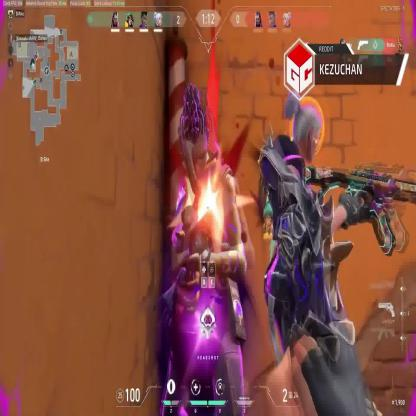enemy: (258, 91, 362, 416)
enemy_head: (285, 96, 320, 162)
